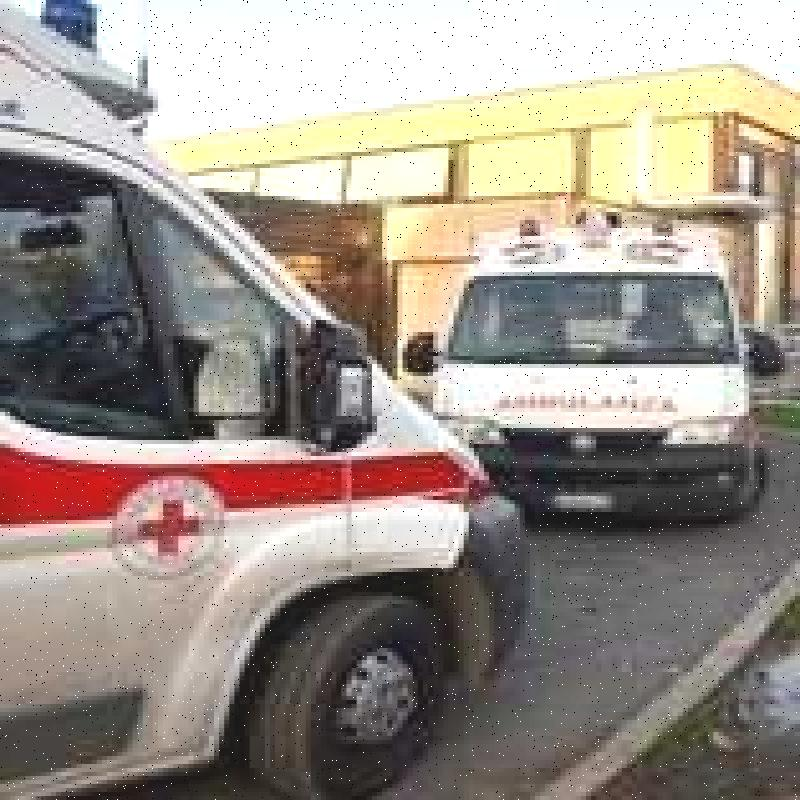AmbulanceSiren: (477, 201, 723, 260), (12, 0, 134, 73)
